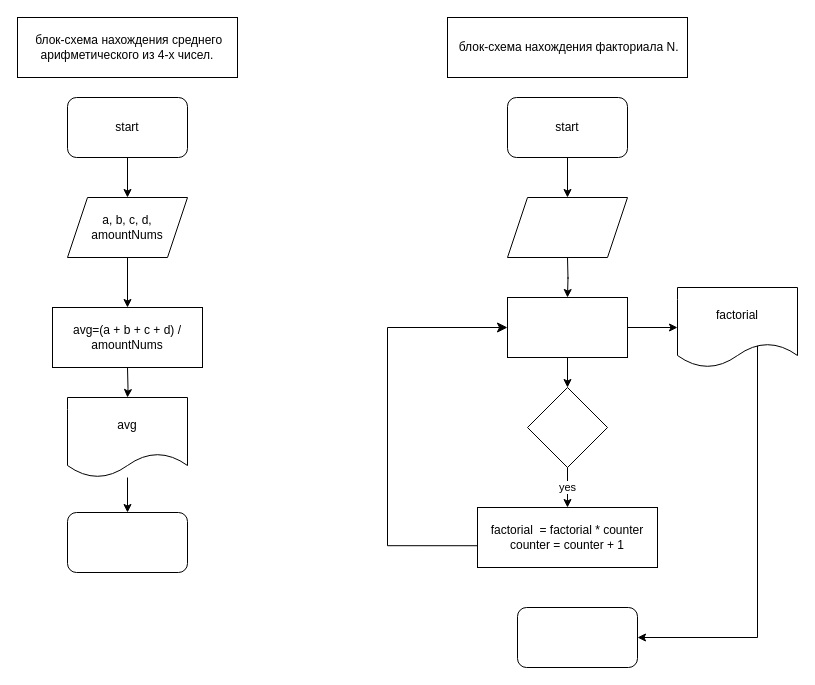
The diagram is 815 pixels wide and 685 high, and some of its shapes have lost their labels. Here are the shapes that lost their labels. From the top down, the centre of each, then its label:
point (567, 227): num
point (567, 327): counter = 1 factorial = 1
point (567, 427): counter <= num
point (127, 542): Fnish
point (577, 637): finish
